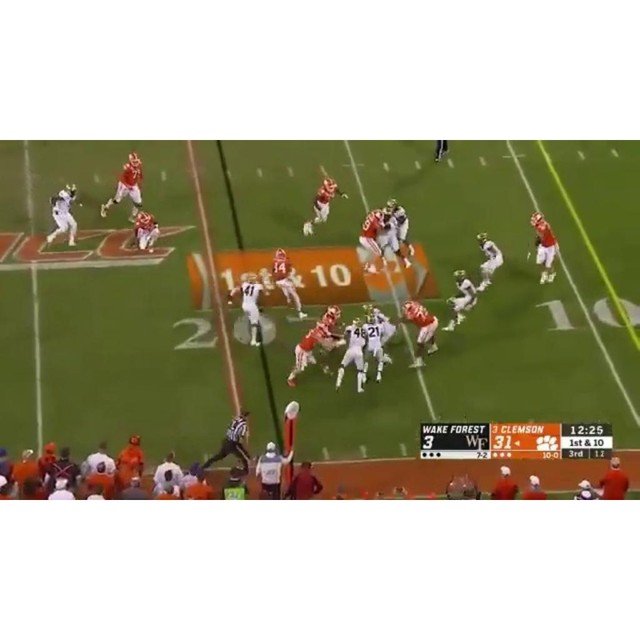american-football-player: (228, 270, 269, 348), (285, 321, 332, 388), (101, 153, 144, 221), (301, 176, 347, 237), (400, 299, 441, 366), (271, 248, 306, 320), (334, 320, 367, 394), (528, 212, 560, 284), (45, 185, 81, 248), (444, 269, 479, 332), (362, 318, 392, 384), (380, 205, 410, 270), (357, 209, 386, 275), (476, 231, 504, 292), (129, 210, 159, 252)
referee: (203, 410, 253, 474)
